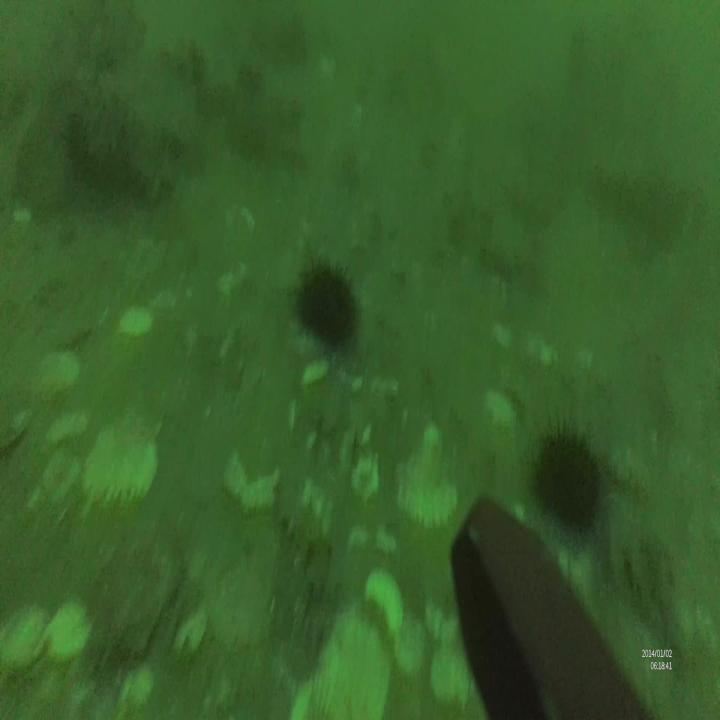echinus: (526, 418, 608, 544), (290, 255, 362, 352)
scallop: (86, 412, 158, 518), (398, 443, 460, 528)
